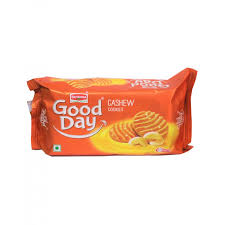gooday-medium: (38, 82, 185, 151)
